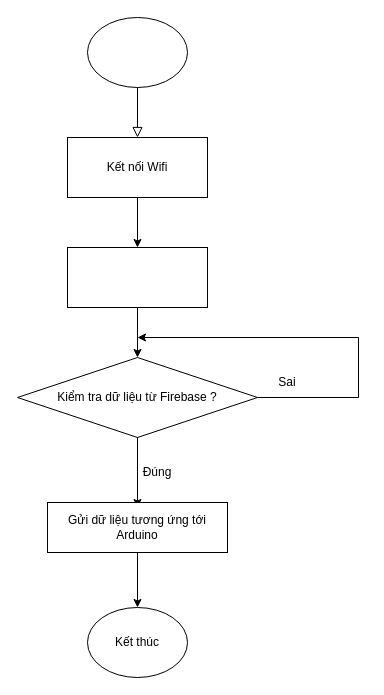
This 384x695 diagram has some shape labels left out. The shapes that lost their labels are listed below. From the top down, each one's centre as x and y in pixels, then its label:
the point at 137,52: Bắt đầu
the point at 137,277: Kết nối Google Firebase
